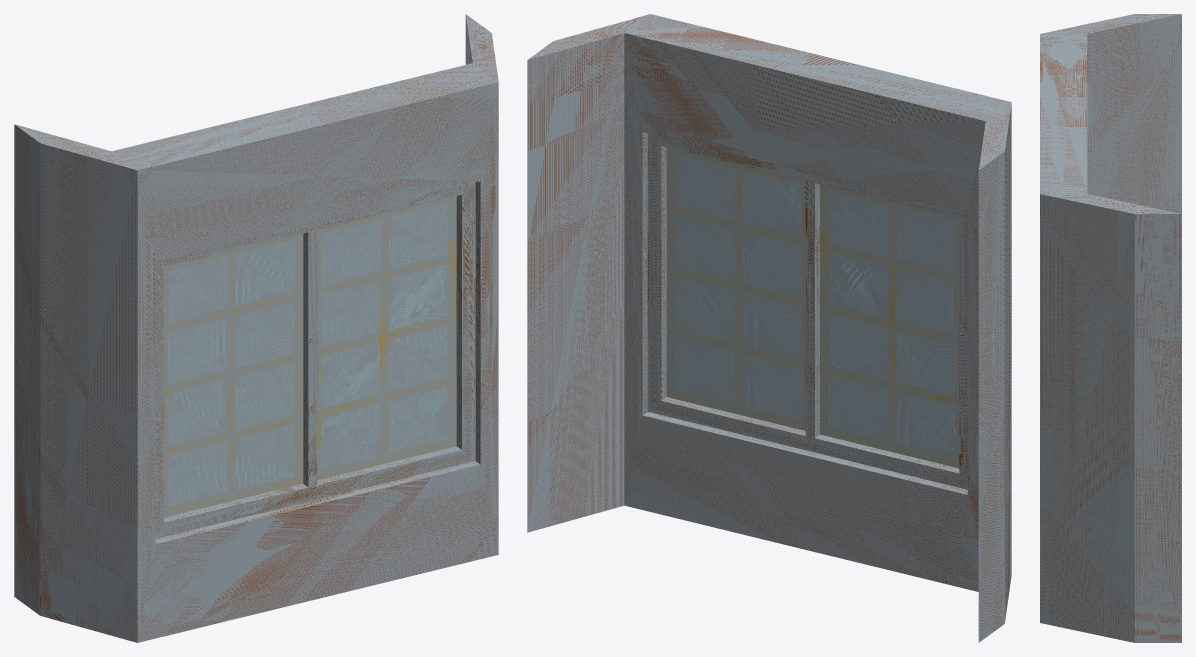
The model's file is window_bay_6.fbx.
3 renders of one model, left to right at view 1: azimuth 30°, elevation 25°; view 2: azimuth 150°, elevation 25°; view 3: azimuth 270°, elevation 25°, orthographic. The views are drawn at different scales.
Parts seen in each view (by area): view 1: Mesh1_window_12_1 Model; view 2: Mesh1_window_12_1 Model; view 3: Mesh1_window_12_1 Model.
Boxes of the visible parts, x1=… form: Mesh1_window_12_1 Model: x1=14, y1=14, x2=498, y2=642; Mesh1_window_12_1 Model: x1=527, y1=14, x2=1011, y2=642; Mesh1_window_12_1 Model: x1=1040, y1=14, x2=1181, y2=642.
Size of the model in its own units: 1 by 1 by 0.3.
